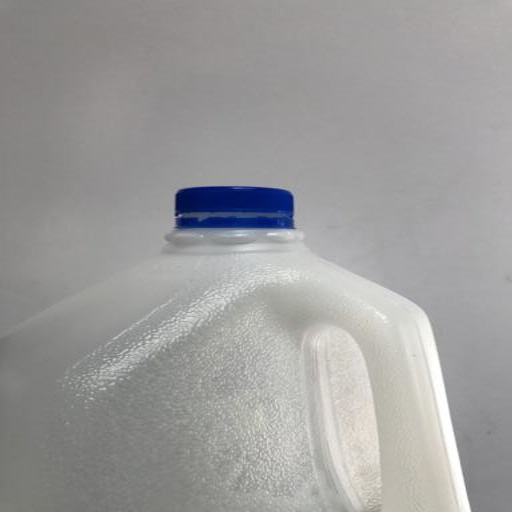Plastic_1: (2, 186, 465, 512)
